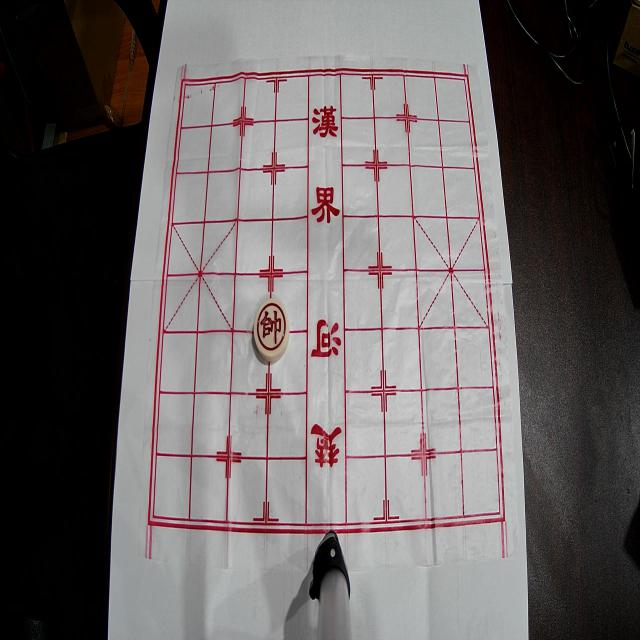red-general: (254, 298, 289, 362)
